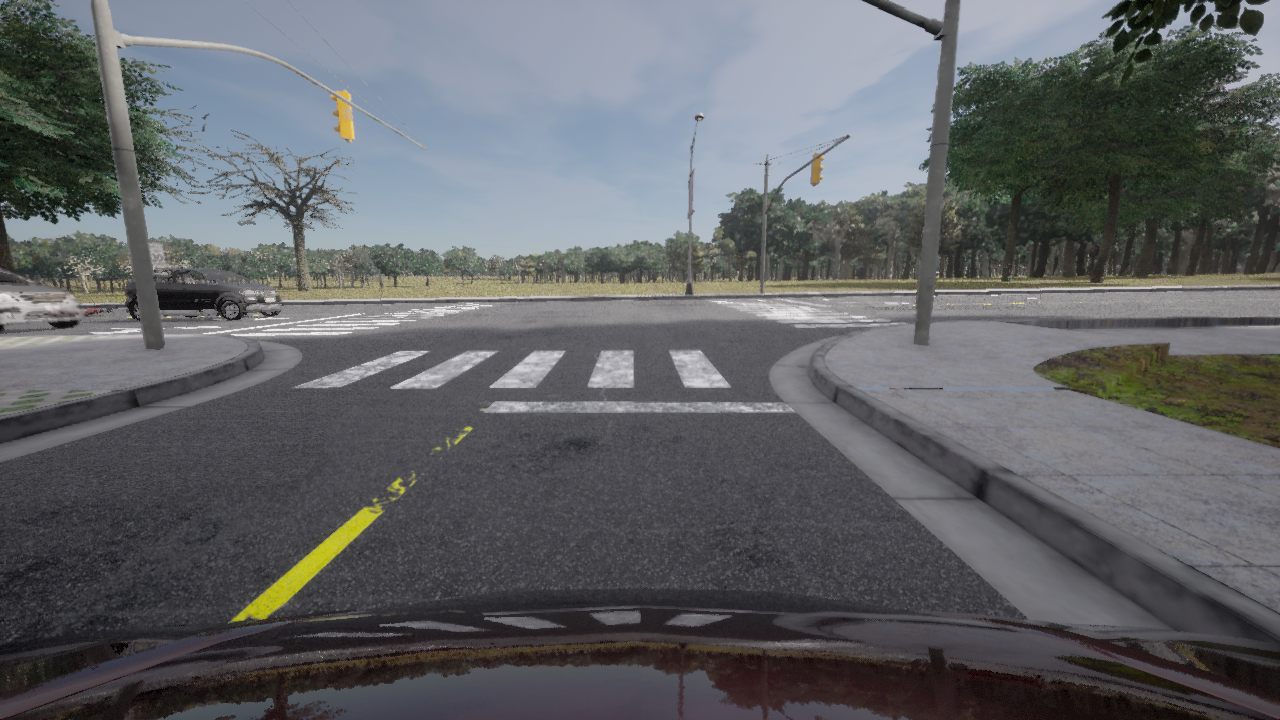cyclist: (0, 588, 1279, 719), (126, 267, 282, 321)
pedestrian: (85, 308, 113, 316)
